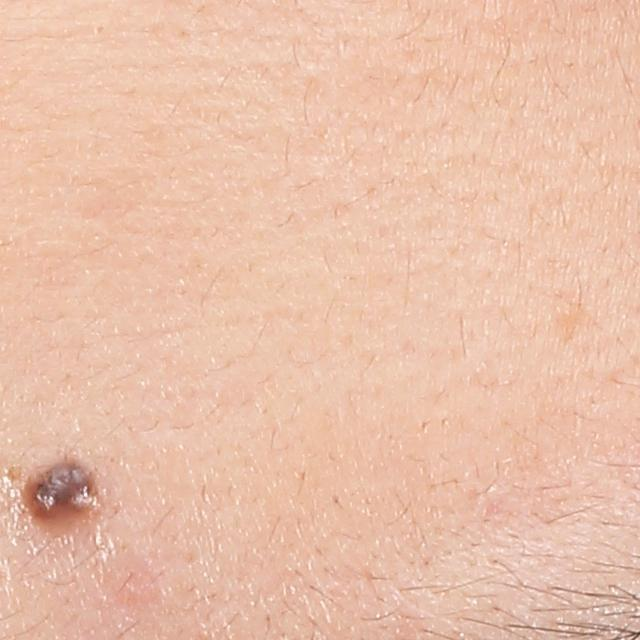nevus: (22, 452, 108, 524)
